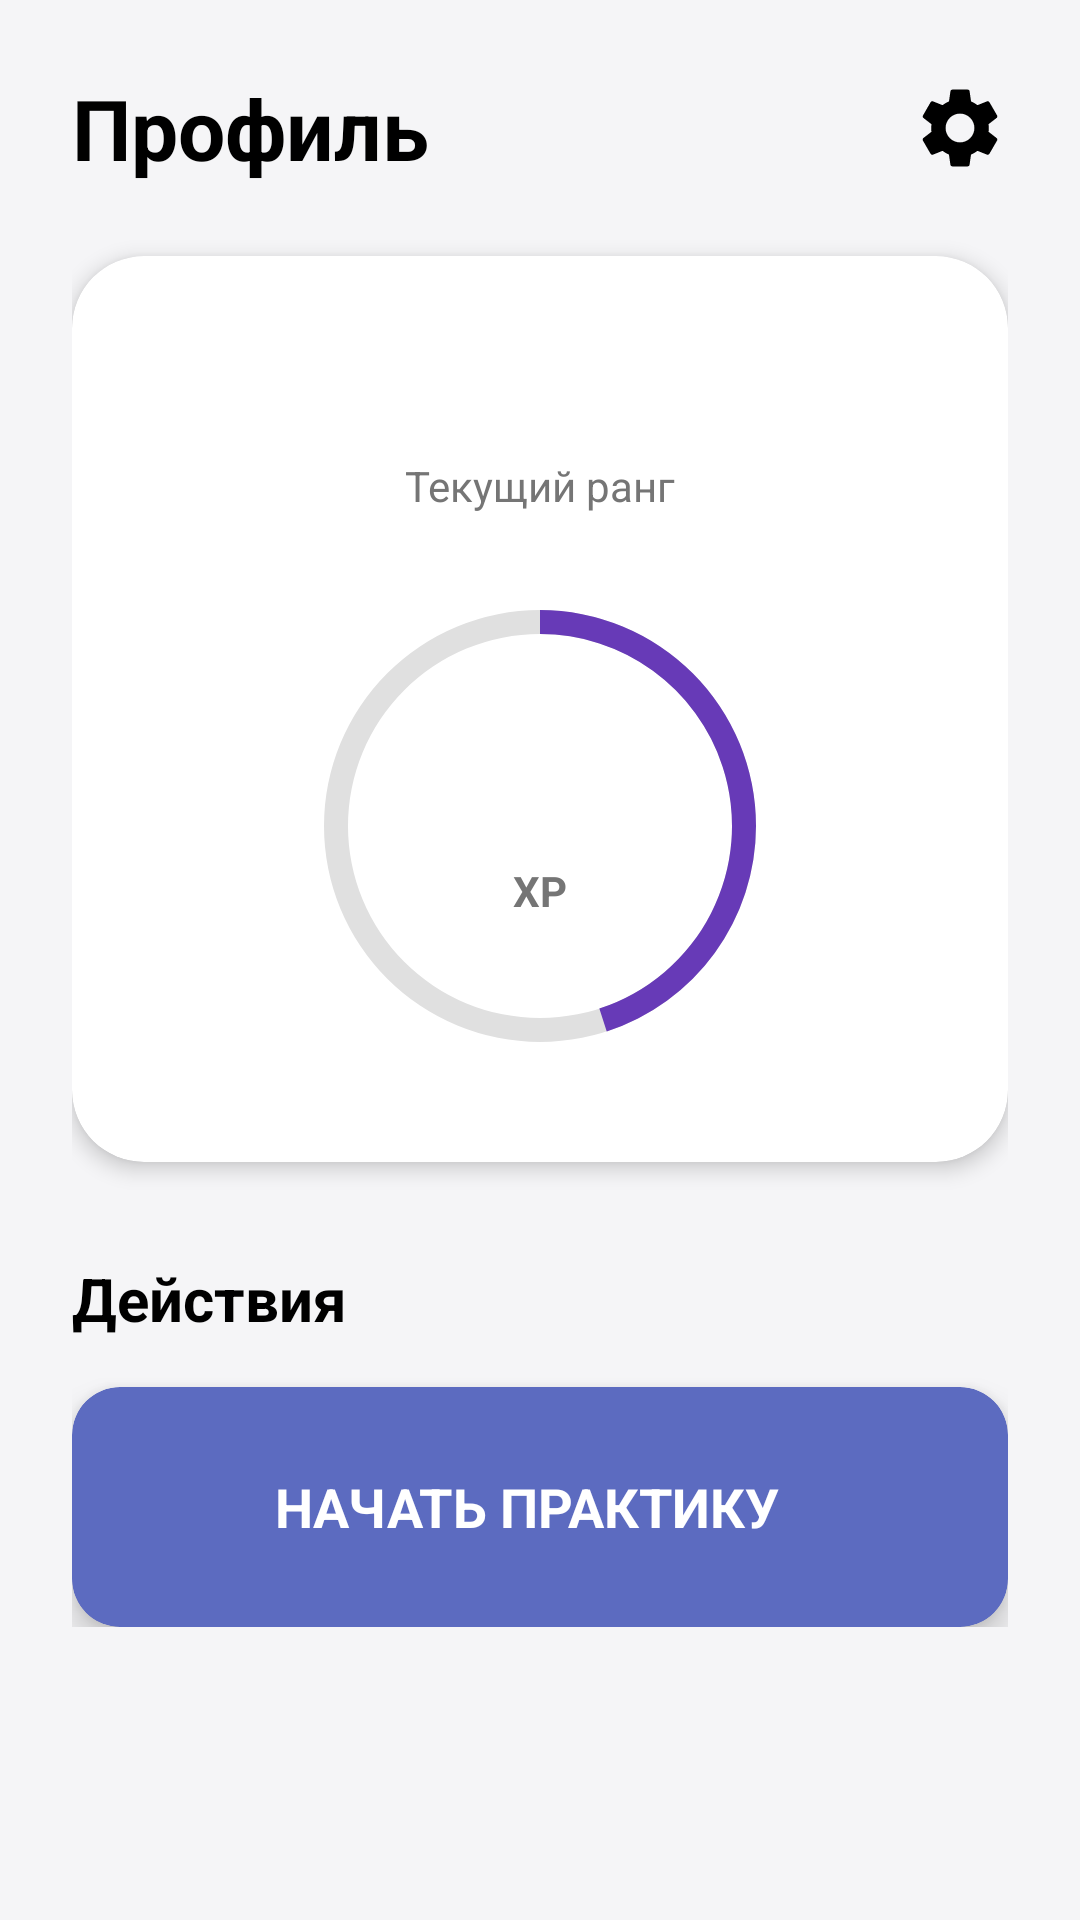

Screen size 1080px x 1920px. Icon name, then its box in pixels as bbox=[x1, y1, x2, y2]:
Настройки: bbox=[922, 89, 998, 167]
